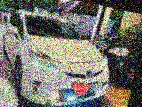car: (0, 4, 121, 107), (87, 12, 142, 83)
